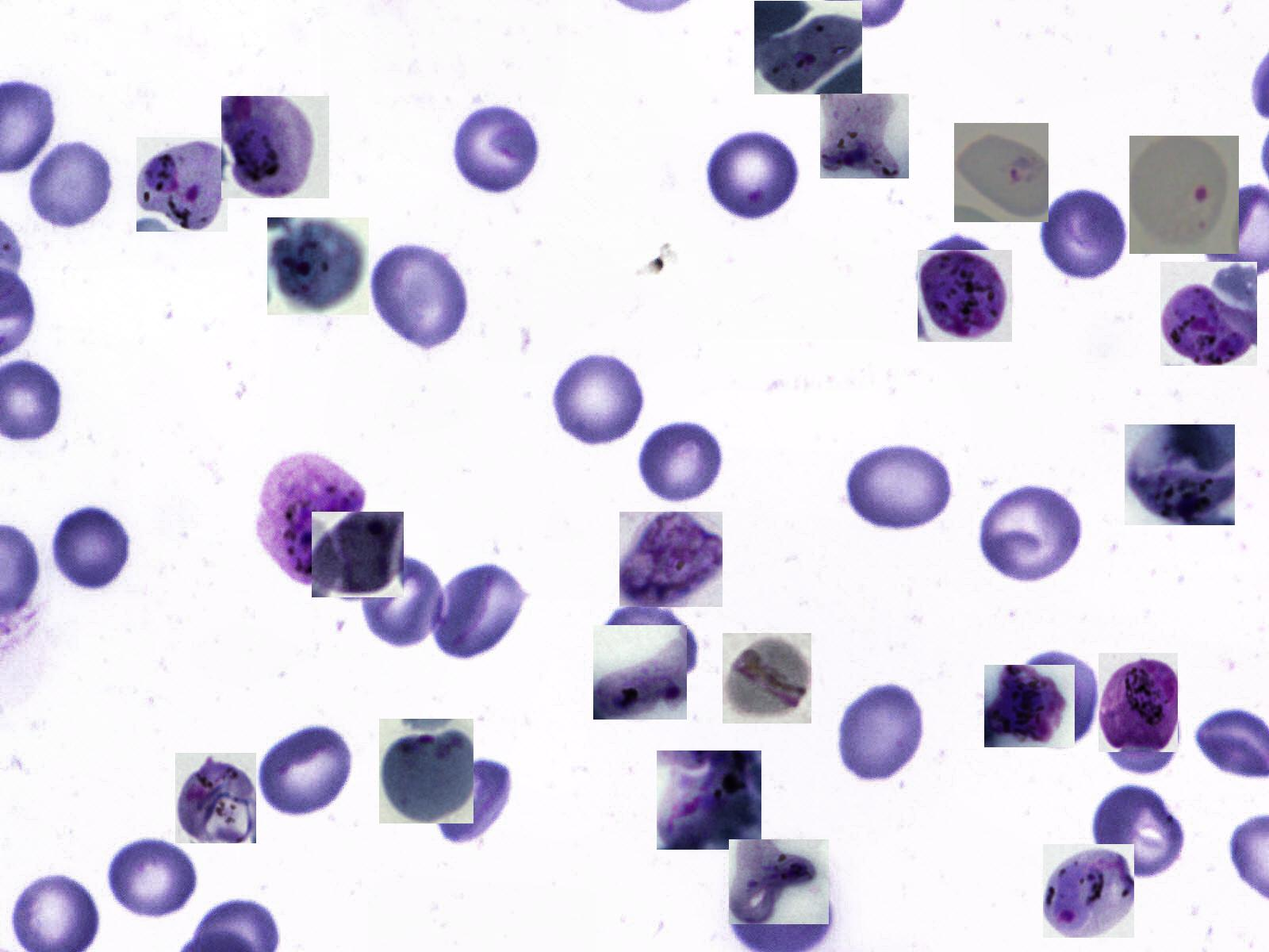Infected: (252, 451, 368, 589), (1129, 136, 1239, 254), (1125, 424, 1235, 525), (221, 96, 329, 198), (658, 750, 762, 850), (1160, 262, 1257, 366), (754, 1, 862, 94), (268, 217, 370, 315), (619, 512, 723, 607), (379, 719, 473, 823), (954, 123, 1049, 222), (593, 625, 687, 720), (918, 250, 1012, 342), (136, 138, 228, 232), (1043, 844, 1134, 938), (730, 839, 829, 924), (723, 633, 811, 724), (1098, 653, 1178, 752), (312, 512, 404, 597), (820, 94, 909, 178), (984, 665, 1075, 747), (175, 753, 256, 843)
Uninfected: (369, 242, 473, 351), (255, 718, 358, 821), (844, 440, 956, 532), (547, 351, 652, 449), (980, 485, 1085, 582), (430, 562, 531, 662), (836, 679, 929, 786), (704, 129, 801, 223), (1041, 184, 1129, 286), (357, 551, 448, 648), (1091, 784, 1185, 877), (452, 100, 541, 198), (635, 415, 727, 505), (1013, 653, 1099, 748), (27, 137, 114, 230), (600, 603, 698, 685), (48, 501, 133, 594), (1099, 683, 1182, 775), (912, 233, 1000, 317), (108, 839, 198, 919), (433, 760, 513, 842)
